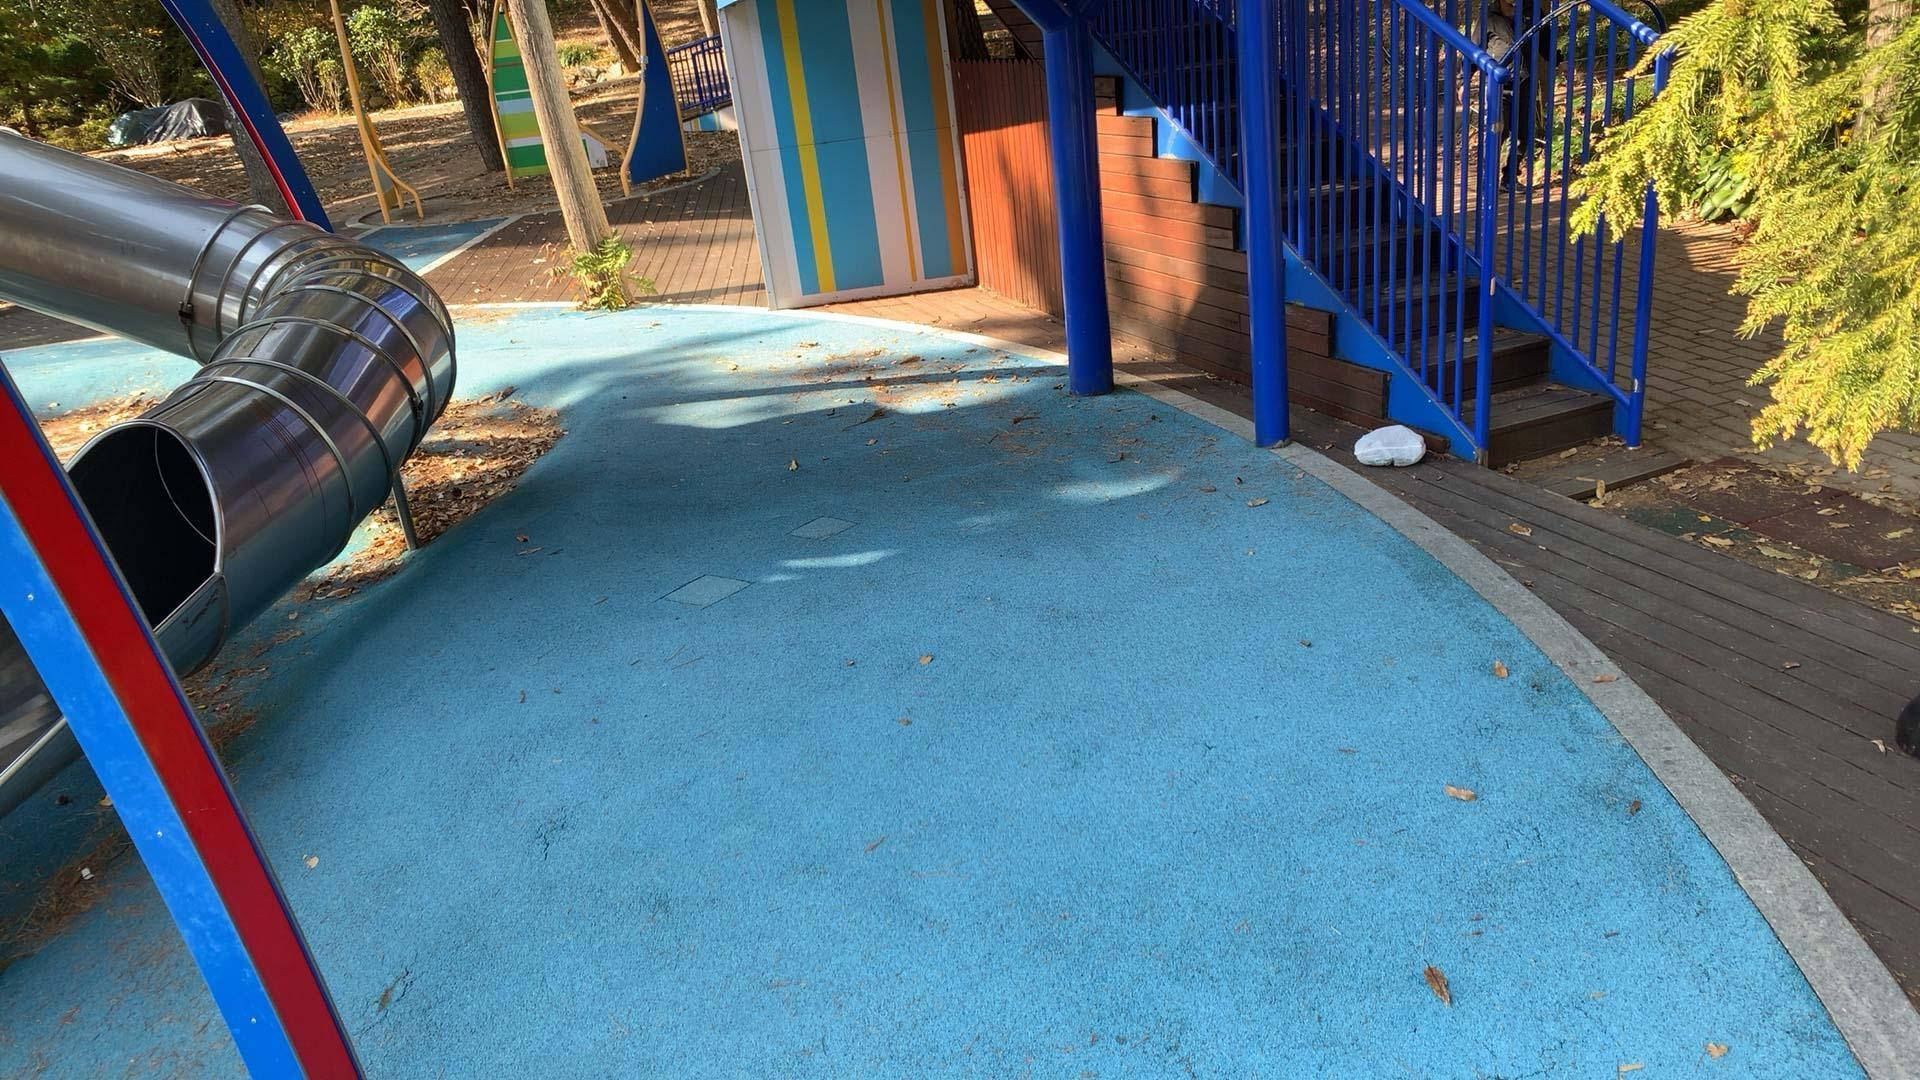white_bag: (1348, 418, 1429, 471)
